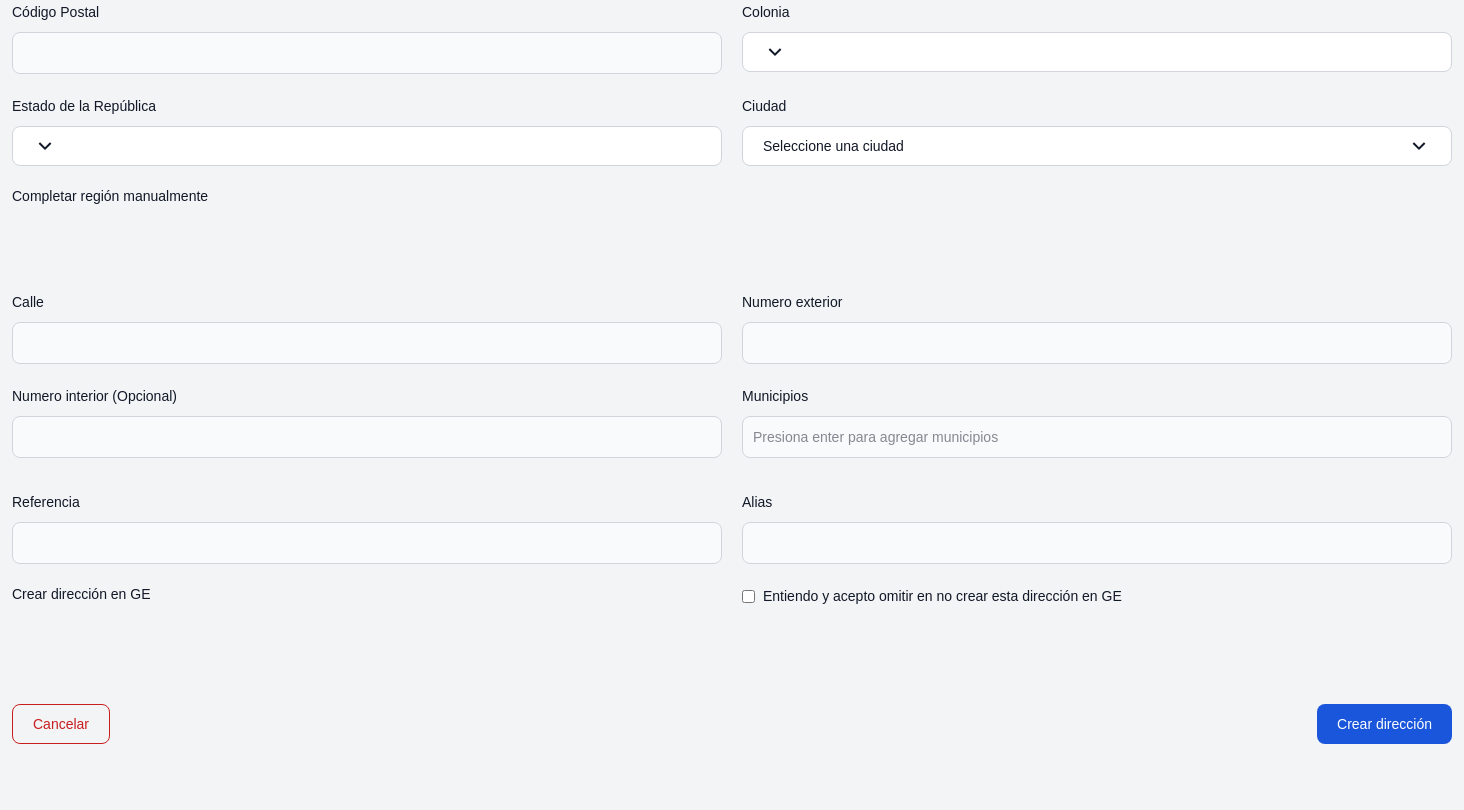
Scenario: Feature: Create Address Subform › Scenario: Toggle GE address creation shows consent checkbox › Given the GE toggle is on, When the user toggles it off, Then the consent checkbox should become visible again
This screenshot has width=1464, height=810.
 Turn on
Click the switch labelled "Crear dirección en GE".
click(81, 594)  # box left=12, top=584, right=722, bottom=608
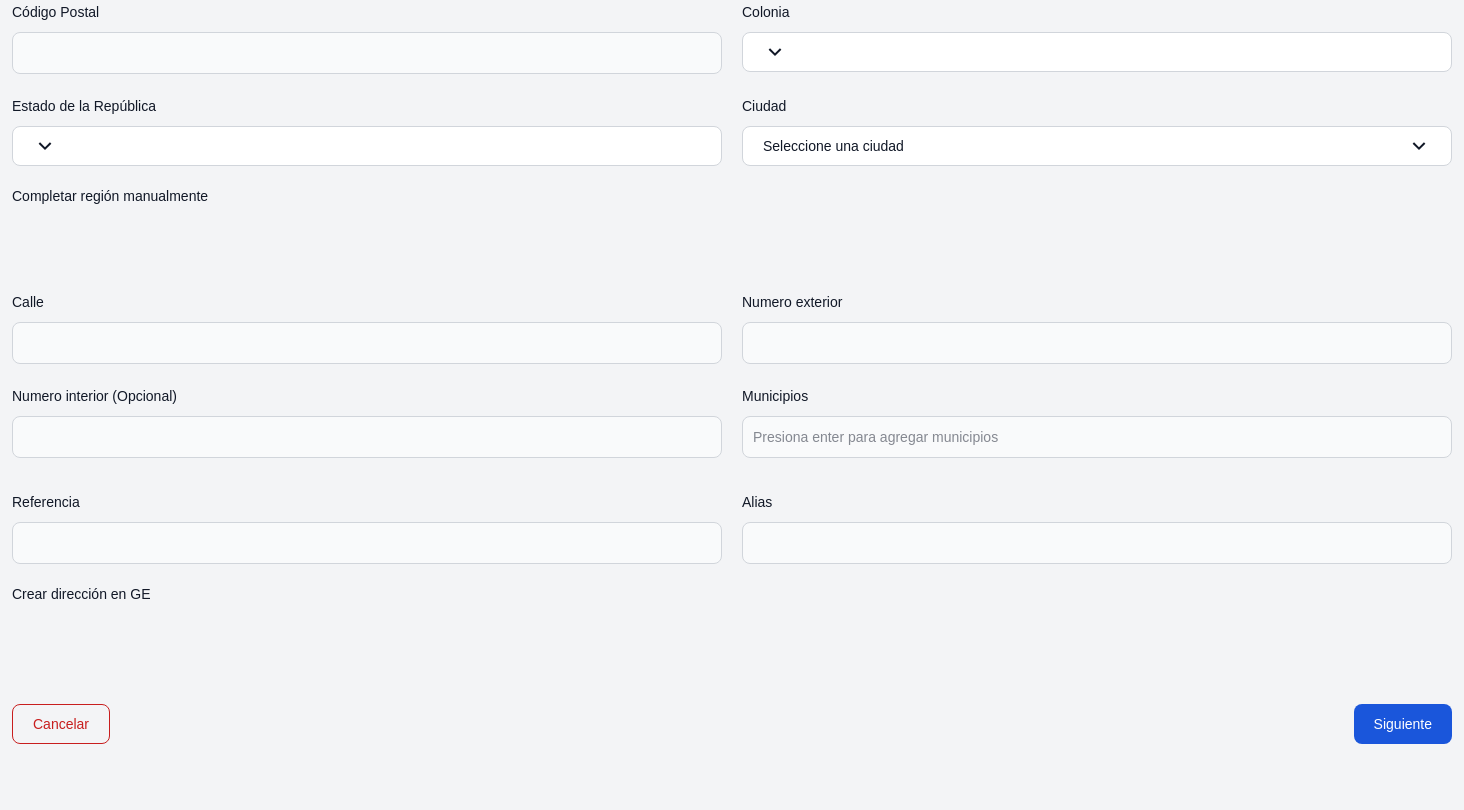
Expected: the label labelled "Entiendo y acepto omitir en no crear esta dirección en GE" is gone
Turn off
Click the switch labelled "Crear dirección en GE".
click(81, 594)  # box left=12, top=584, right=722, bottom=608
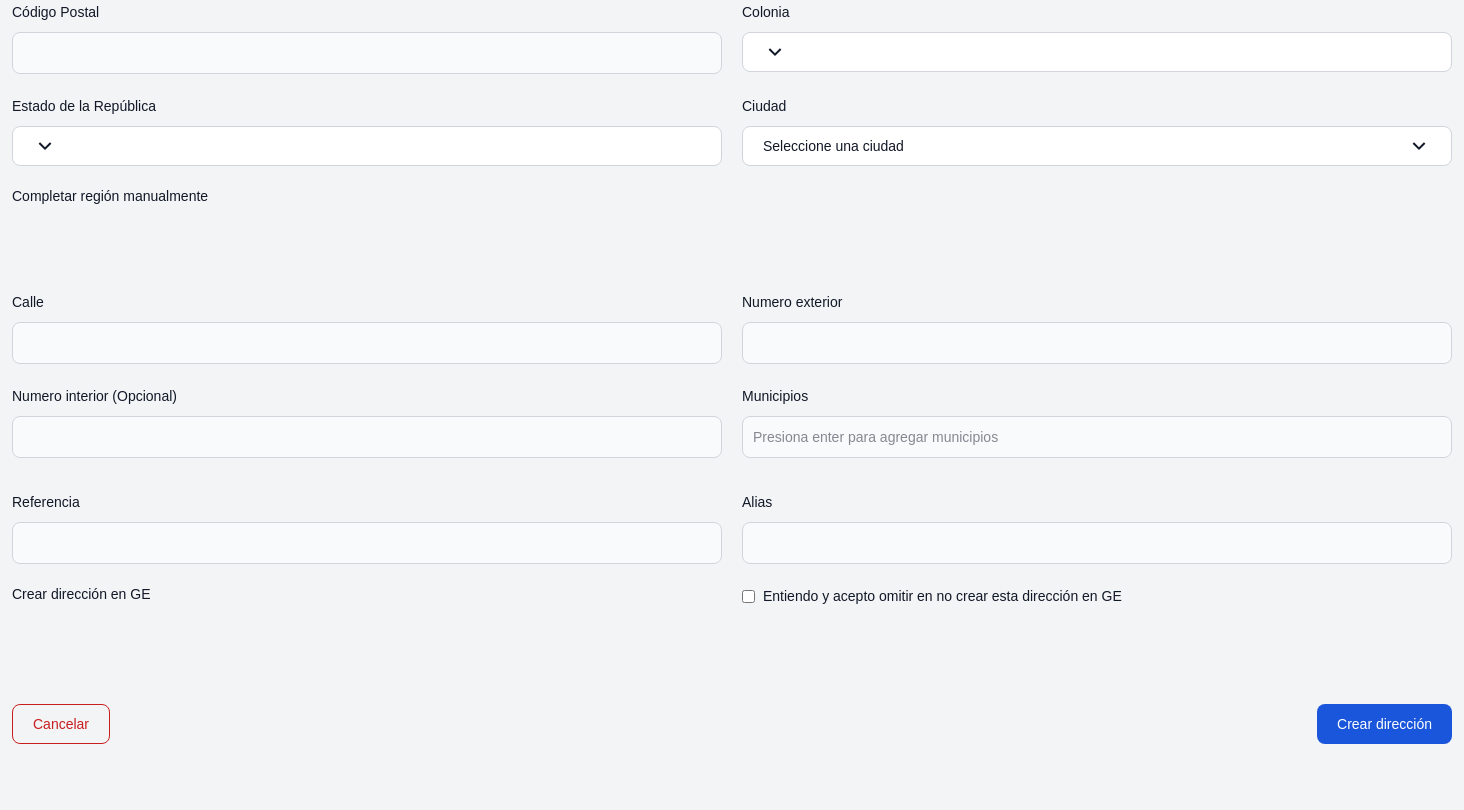
Expected: the checkbox labelled "Entiendo y acepto omitir en no crear esta dirección en GE" is shown, left=742, top=590, right=755, bottom=602
